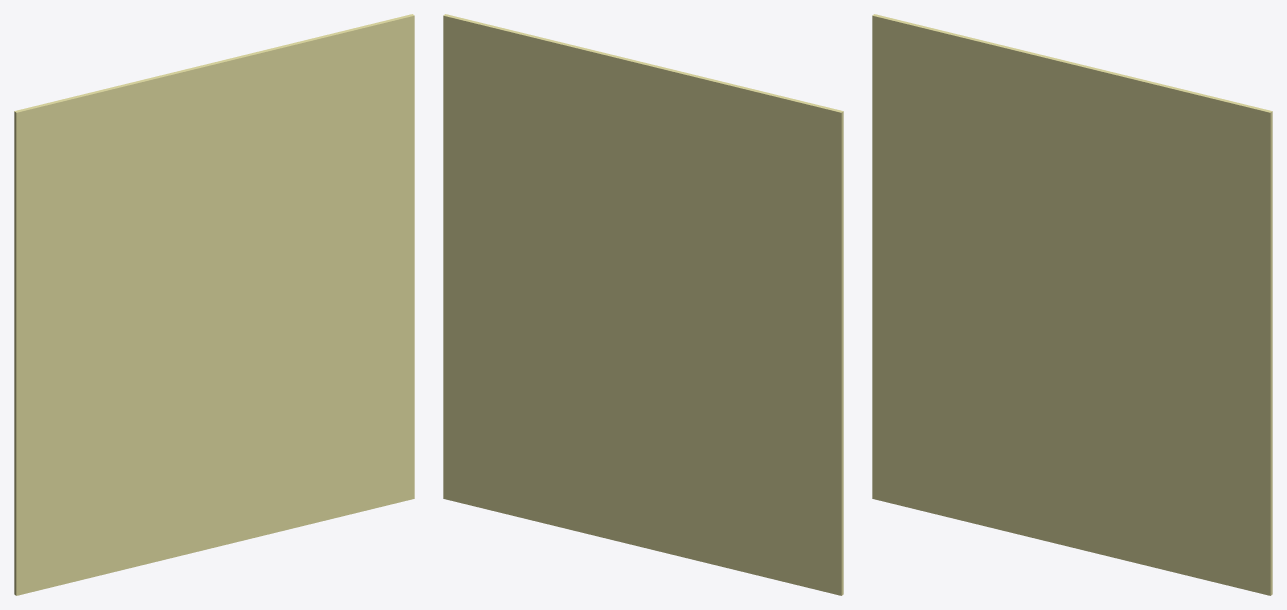
Rendered from original-11.obj.
3 renders of one model, left to right at view 1: azimuth 30°, elevation 25°; view 2: azimuth 150°, elevation 25°; view 3: azimuth 330°, elevation 25°, orthographic.
Parts seen in each view (by area): view 1: _6mmback1/_6mmback/mesh5/mesh5-geometry#mesh5-geometry; view 2: _6mmback1/_6mmback/mesh5/mesh5-geometry#mesh5-geometry; view 3: _6mmback1/_6mmback/mesh5/mesh5-geometry#mesh5-geometry.
Boxes of the visible parts, <box> form: _6mmback1/_6mmback/mesh5/mesh5-geometry#mesh5-geometry: <box>14,14,414,595</box>; _6mmback1/_6mmback/mesh5/mesh5-geometry#mesh5-geometry: <box>443,14,843,595</box>; _6mmback1/_6mmback/mesh5/mesh5-geometry#mesh5-geometry: <box>872,14,1272,595</box>.
Size of the model in its own units: 0.8629 by 1 by 0.00843.
